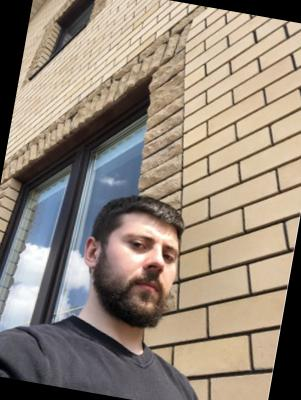without_mask: (101, 222, 185, 333)
